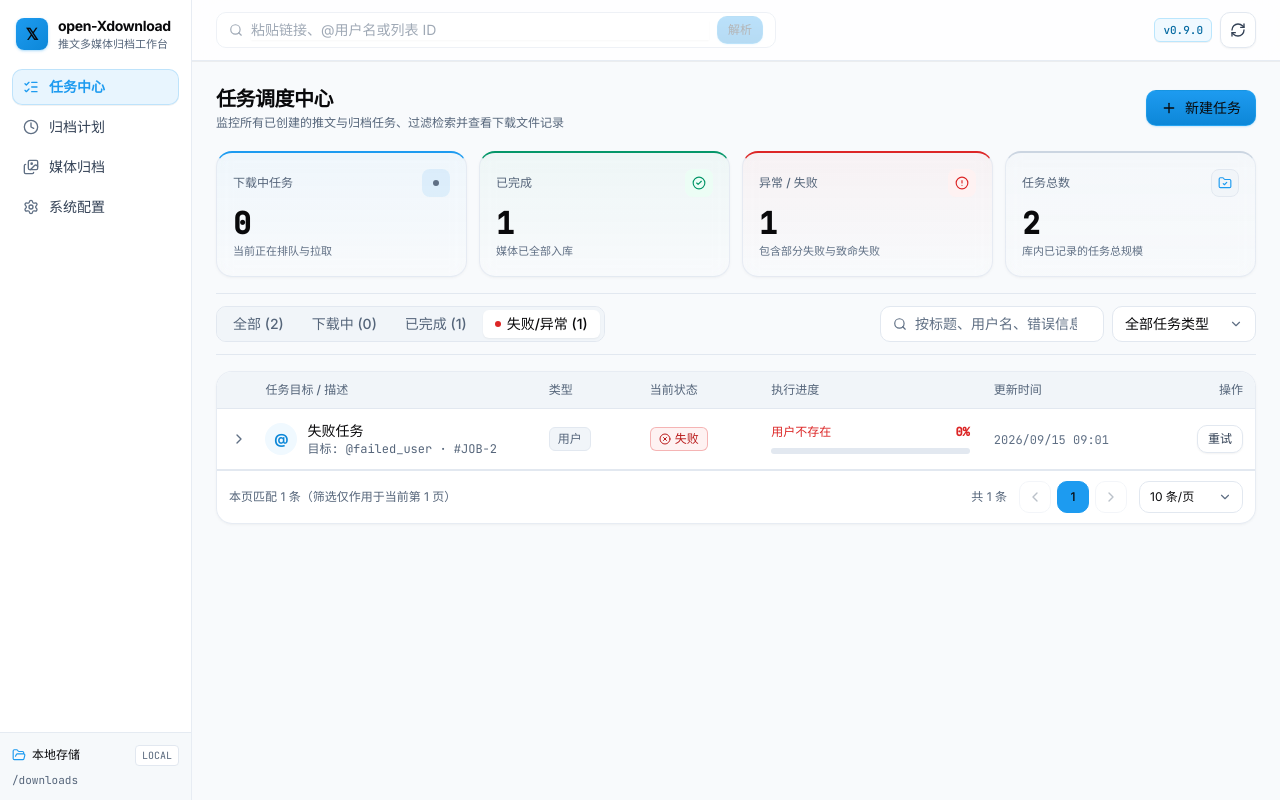
Test: App 的 URL 状态 › 切换状态筛选会把 URL 上的 status 去掉
This screenshot has width=1280, height=800.
Expected: the text "失败任务" is shown, [307,422,363,438]
Click the radio button "已完成 (1)" at (436, 324), box [393,310,479,338]
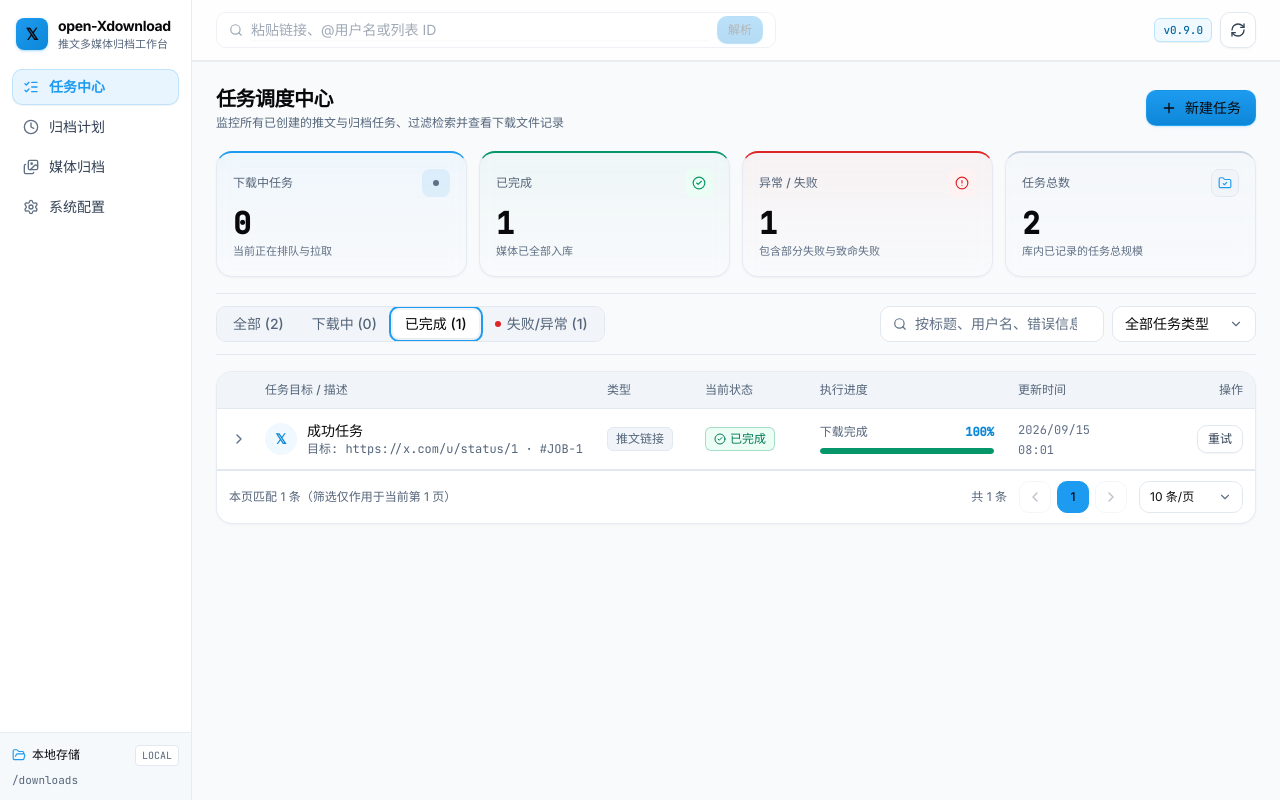
Result: the text "成功任务" is shown at [307,422,363,438]
